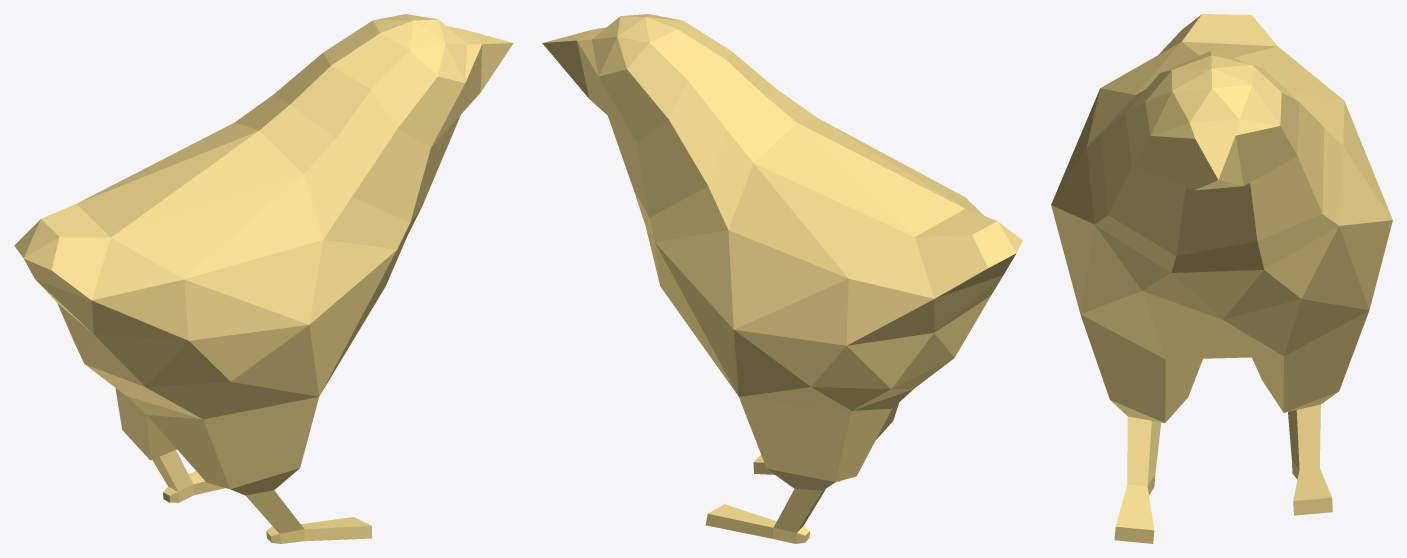
File: quaternius_Chick.glb
3 renders of one model, left to right at view 1: azimuth 30°, elevation 25°; view 2: azimuth 150°, elevation 25°; view 3: azimuth 270°, elevation 25°, orthographic. The views are drawn at different scales.
Bounding box in the file's own units: 0.2461 × 0.2253 × 0.1337.
